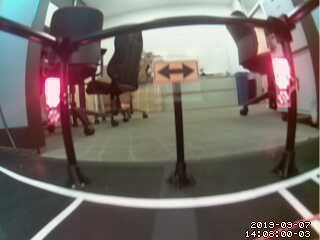Left_Right_sign: (151, 58, 199, 82)
Traffic_light_red: (270, 59, 291, 112), (46, 77, 58, 129)
